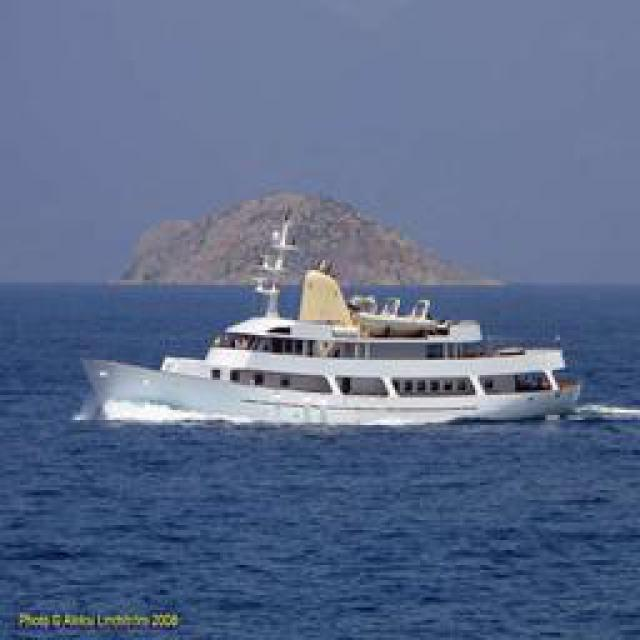Ship: (85, 266, 588, 434)
